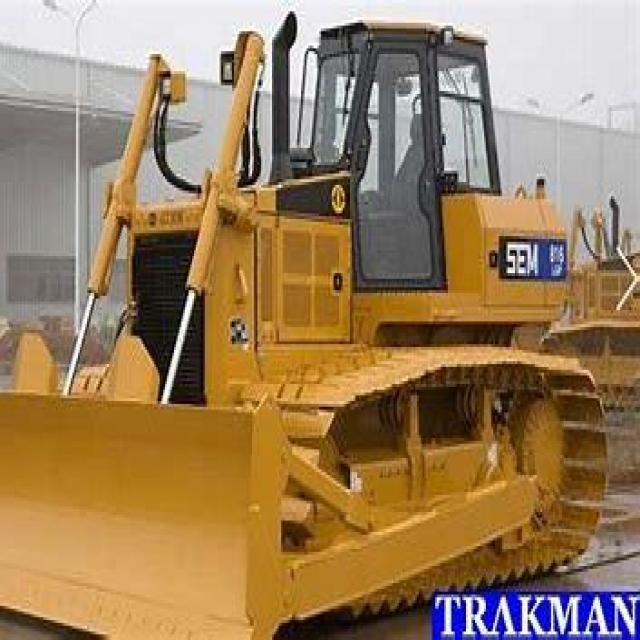Bulldozer: (6, 3, 629, 637)
